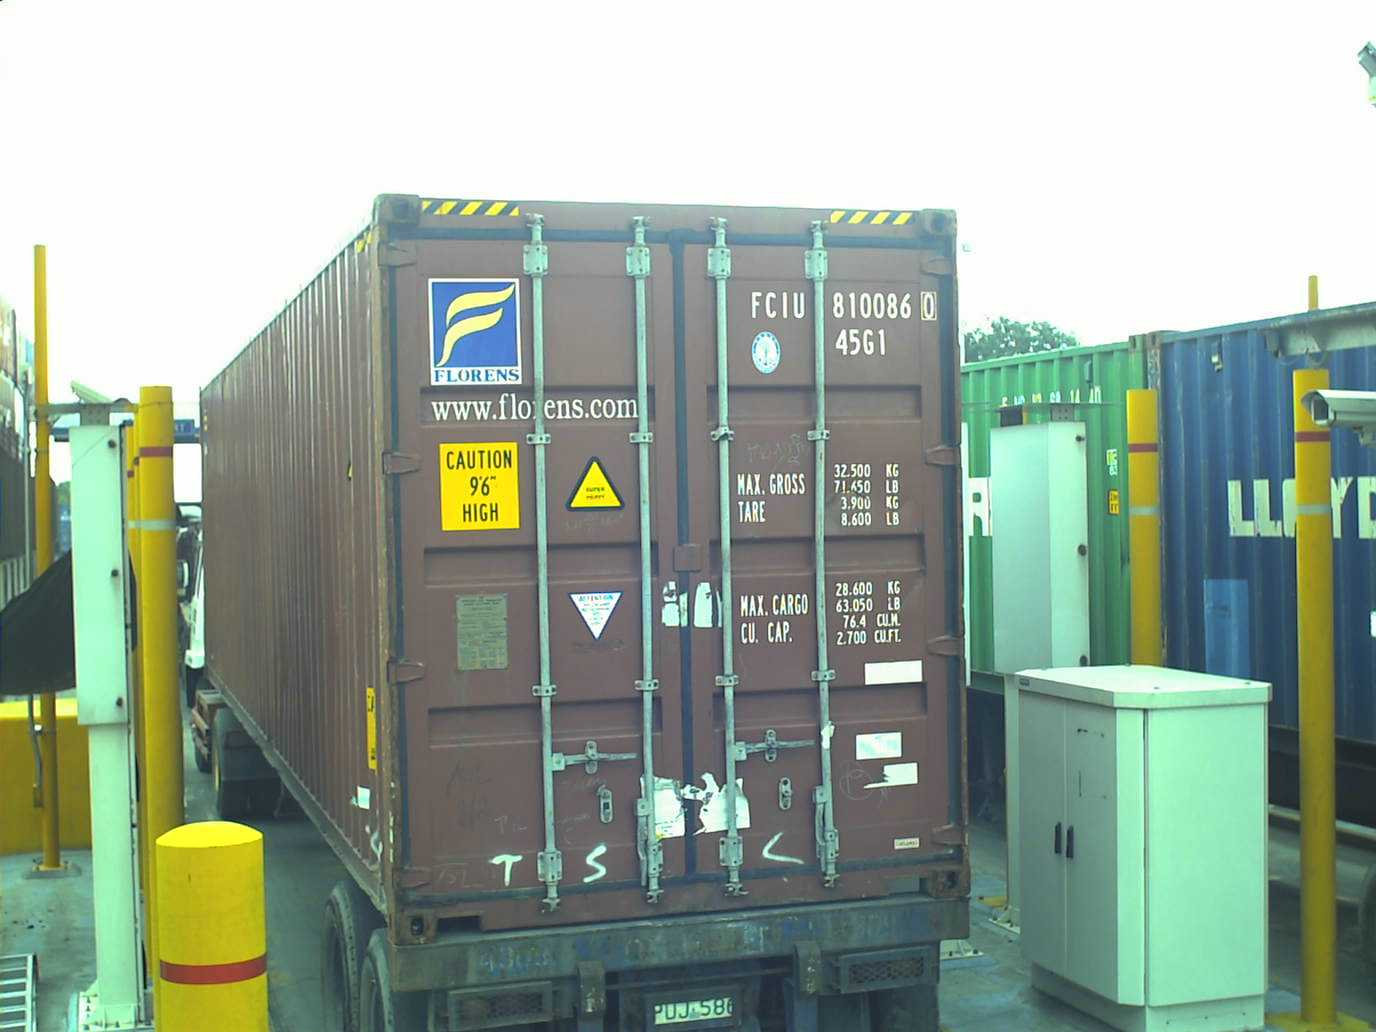container_door: (368, 186, 981, 920)
